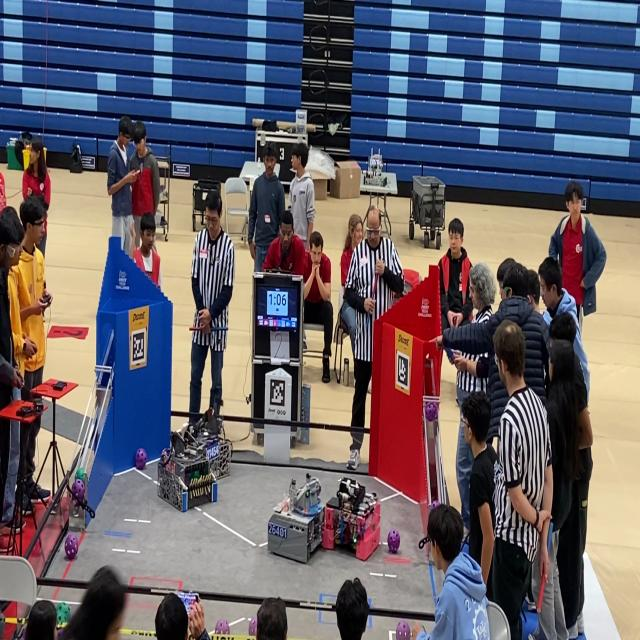artifact_green: (56, 602, 71, 625), (75, 467, 86, 484), (57, 628, 63, 639), (188, 472, 193, 480), (195, 471, 200, 479)
artifact_purple: (387, 529, 401, 554), (65, 533, 78, 559), (71, 479, 84, 501), (396, 620, 411, 639), (135, 448, 146, 470), (425, 402, 437, 421), (215, 620, 230, 635), (248, 618, 257, 636), (18, 628, 25, 639), (57, 628, 63, 639), (431, 501, 439, 509)
